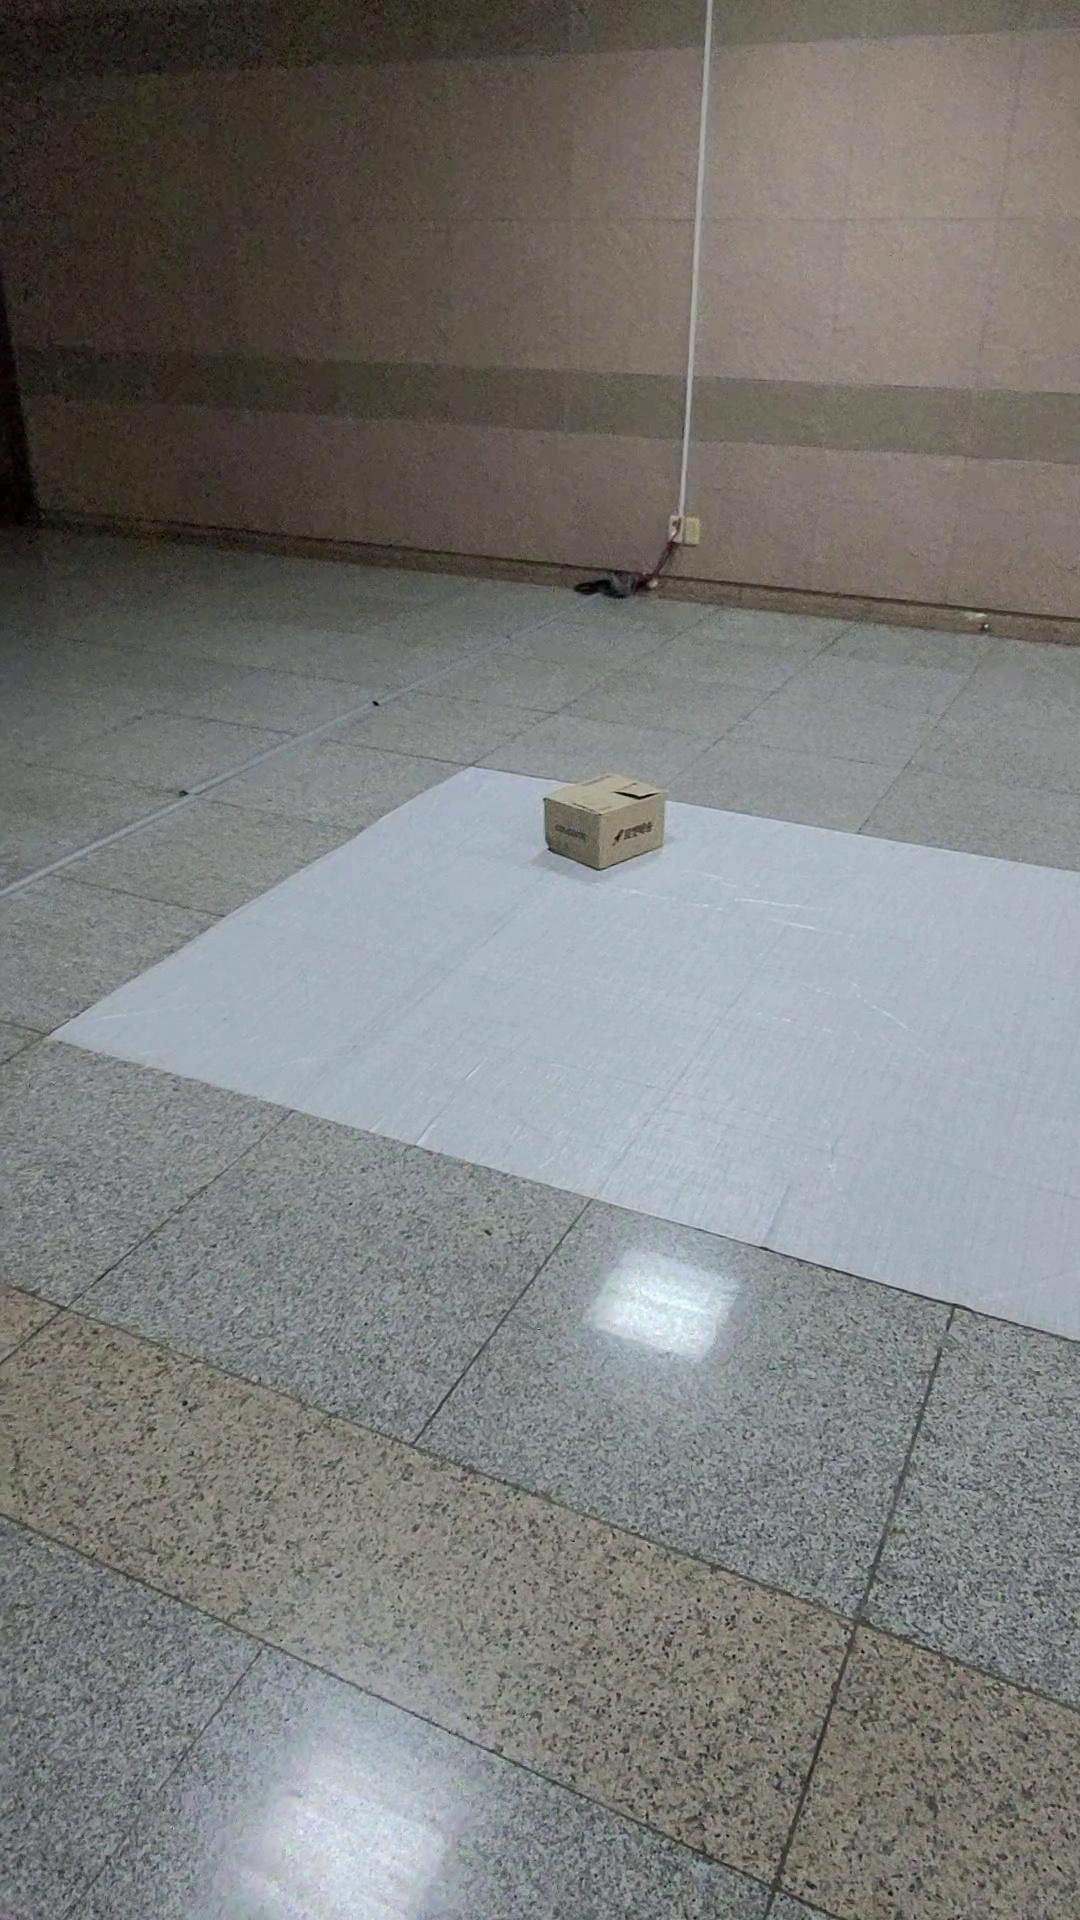Box: (493, 758, 694, 885)
